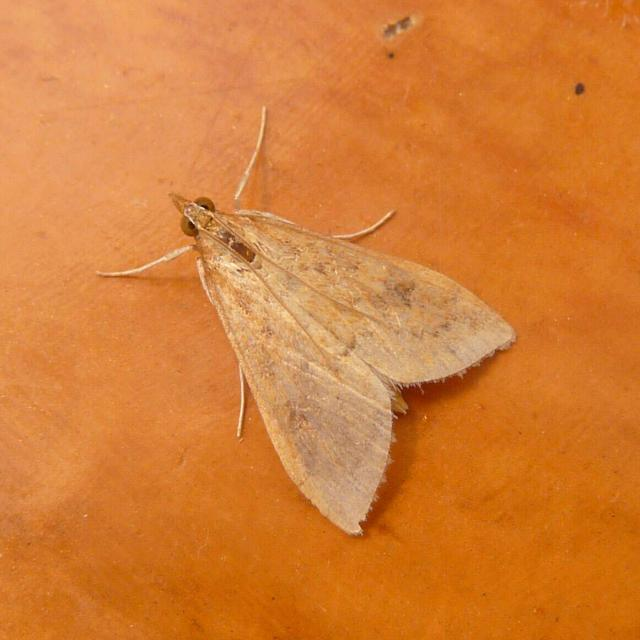cornborer-Adult-: (90, 94, 526, 543)
